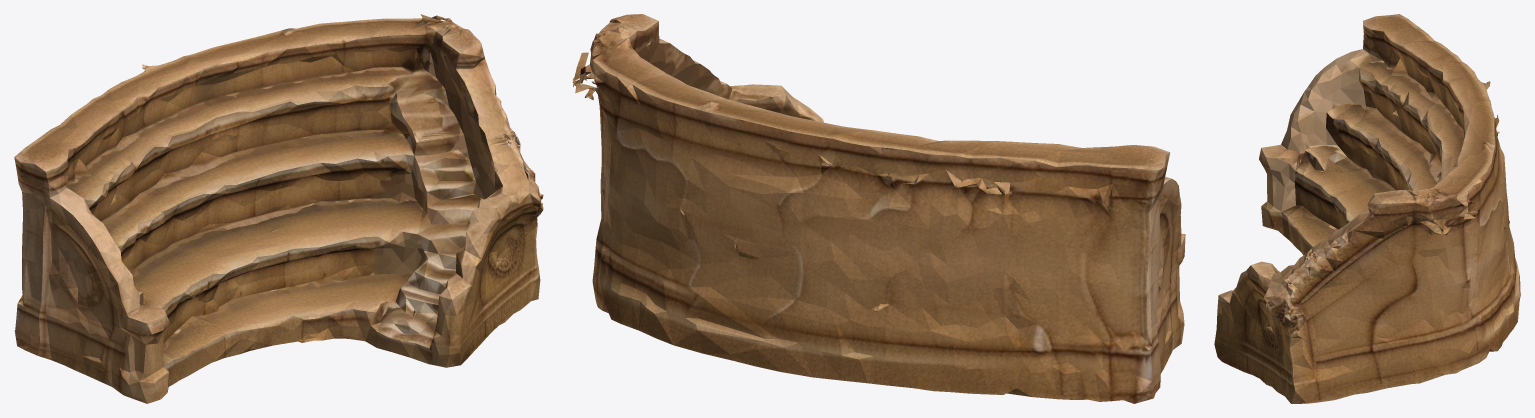
Rendered from colosseum_seats_1117.glb.
The picture shows the model from 3 angles, left to right: view 1: azimuth 30°, elevation 25°; view 2: azimuth 150°, elevation 25°; view 3: azimuth 270°, elevation 25°; orthographic projection. The views are drawn at different scales.
Parts seen in each view (by area): view 1: world; view 2: world; view 3: world.
Boxes of the visible parts, left/top/right/bottom form: world: left=14, top=14, right=543, bottom=403; world: left=572, top=14, right=1185, bottom=403; world: left=1214, top=14, right=1520, bottom=403.
Bounding box in the file's own units: 2.06 × 1 × 1.31.
Materials: 1 (1 with a texture image).
